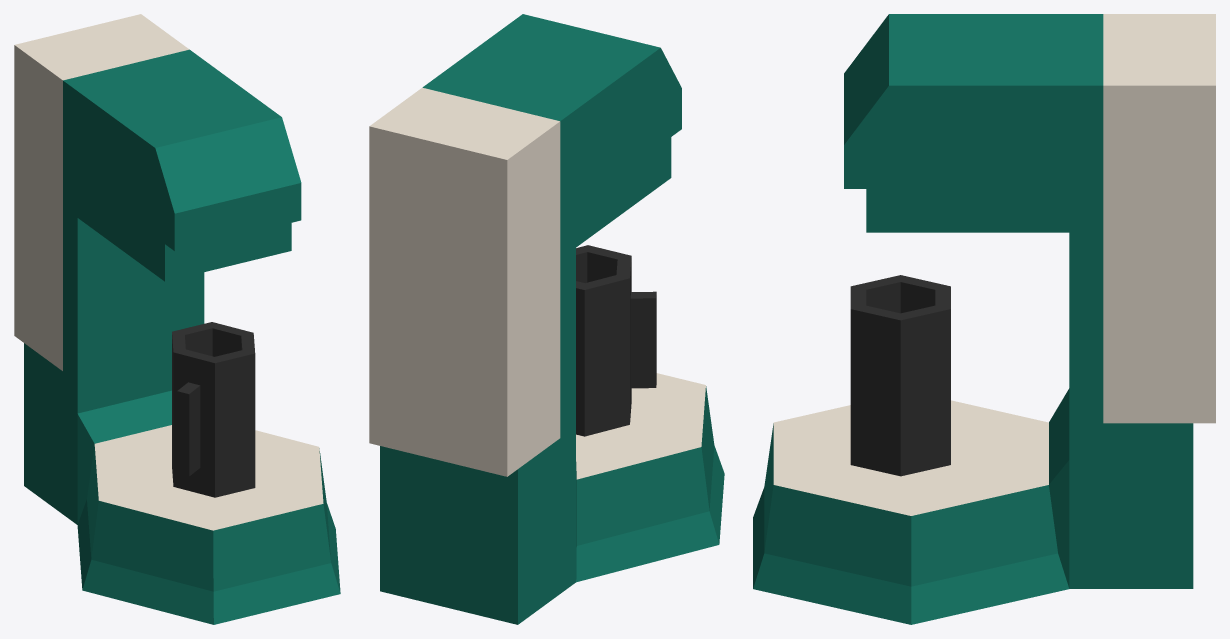
The model's file is coffee_a.glb.
3 renders of one model, left to right at view 1: azimuth 30°, elevation 25°; view 2: azimuth 150°, elevation 25°; view 3: azimuth 270°, elevation 25°, orthographic. The views are drawn at different scales.
Visible parts, largest first — view 1: body; view 2: body; view 3: body.
Part boxes in pixels (<box>): body: <box>14,14,340,624</box>; body: <box>369,14,724,624</box>; body: <box>753,14,1215,624</box>.
Bounding box in the file's own units: 0.22 × 0.36 × 0.3.
